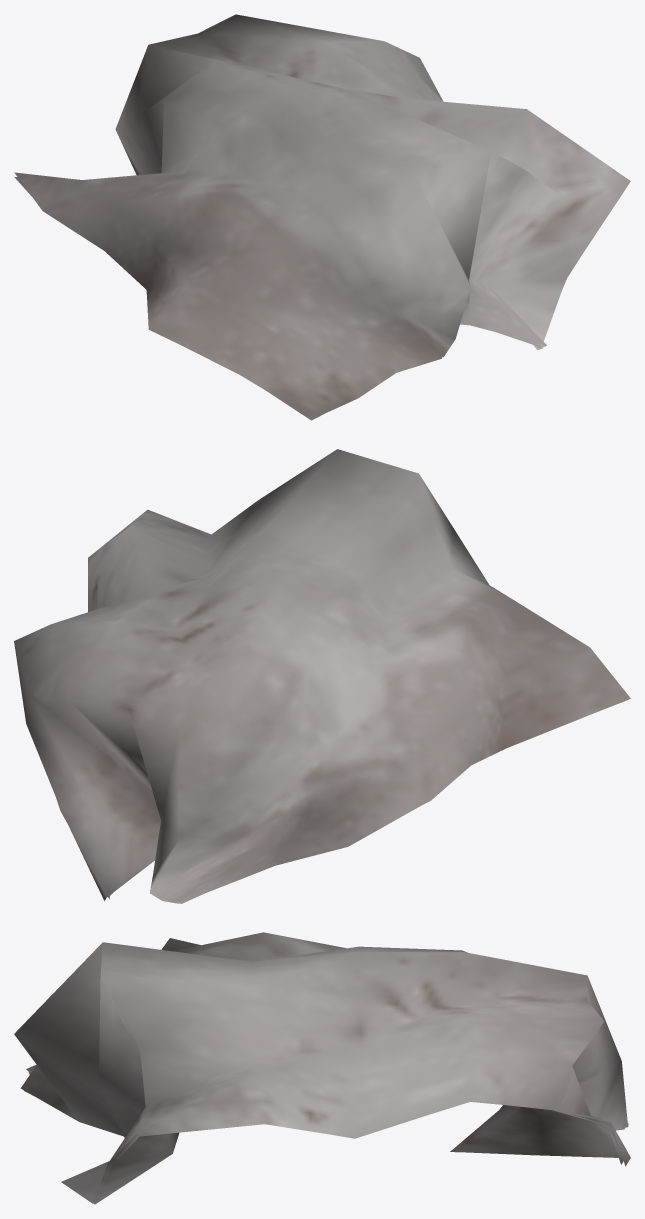
File: SM_Tissue_C.FBX
3 views of the same model, one above another, from view 1: azimuth 30°, elevation 25°; view 2: azimuth 150°, elevation 25°; view 3: azimuth 270°, elevation 25° (orthographic). The views are drawn at different scales.
Visible parts, largest first — view 1: SM_Tissue_C; view 2: SM_Tissue_C; view 3: SM_Tissue_C.
Boxes of the visible parts, left/top/right/bottom form: SM_Tissue_C: left=14, top=14, right=630, bottom=420; SM_Tissue_C: left=14, top=449, right=630, bottom=903; SM_Tissue_C: left=14, top=932, right=630, bottom=1204.
Bounding box in the file's own units: 26.5 × 11.66 × 30.53.
Materials: 1 (1 with a texture image).
